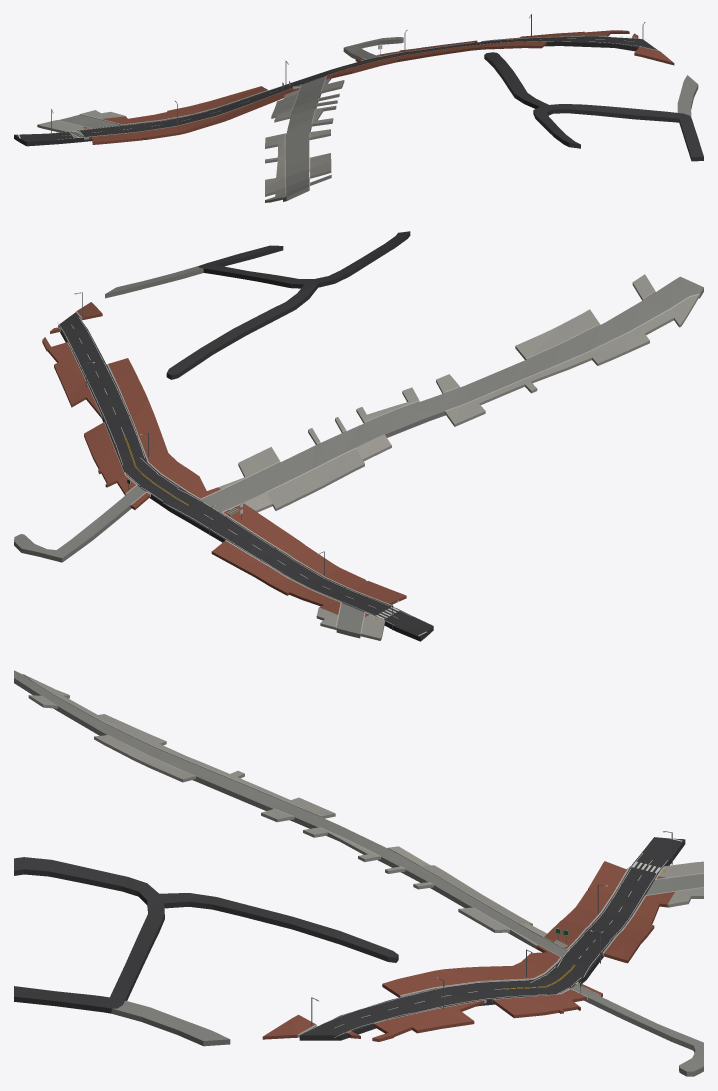
File: 18-218878-118945.2cfe371c.glb
The picture shows the model from 3 angles, top to bottom: view 1: azimuth 30°, elevation 25°; view 2: azimuth 150°, elevation 25°; view 3: azimuth 270°, elevation 25°; orthographic projection. The views are drawn at different scales.
Size of the model in its own units: 148 by 43.04 by 146.
